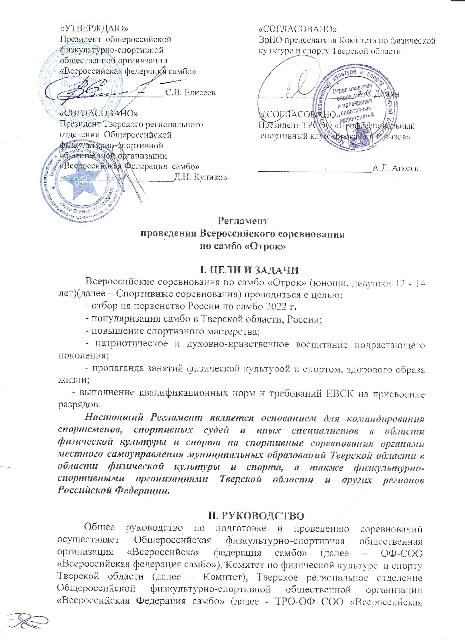stamp: (314, 65, 398, 153), (38, 45, 126, 129), (38, 140, 124, 224)
